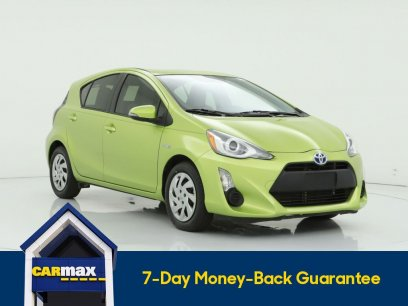Toyota Prius: (43, 65, 371, 236)
